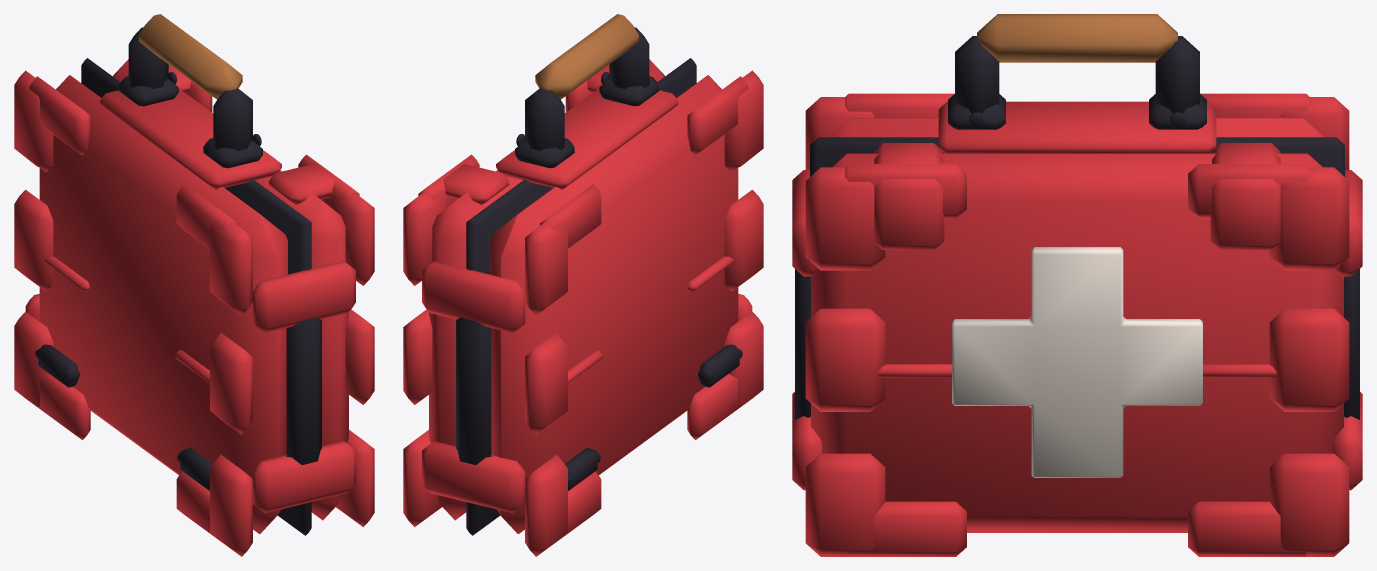
The model's file is pick.medkit.glb.
3 renders of one model, left to right at view 1: azimuth 30°, elevation 25°; view 2: azimuth 150°, elevation 25°; view 3: azimuth 270°, elevation 25°, orthographic. The views are drawn at different scales.
Size of the model in its own units: 0.2656 by 0.7306 by 0.75.
